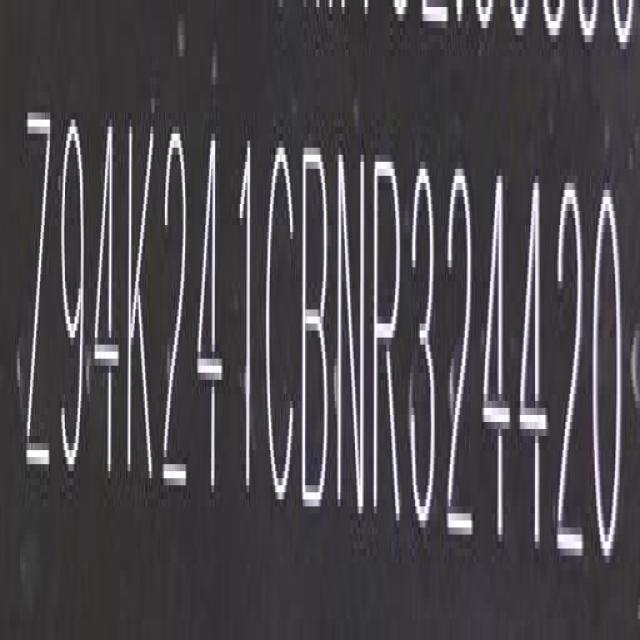0: (593, 181, 626, 572)
1: (235, 128, 256, 514)
2: (446, 162, 479, 556), (554, 178, 586, 572), (161, 112, 192, 508)
3: (410, 153, 440, 554)
4: (514, 170, 550, 569), (482, 166, 512, 558), (196, 126, 226, 513), (93, 106, 121, 491)
9: (58, 106, 89, 493)
B: (301, 135, 333, 520)
C: (262, 125, 300, 513)
K: (124, 114, 159, 495)
N: (336, 138, 370, 527)
R: (372, 128, 405, 534)
Z: (21, 98, 54, 501)
